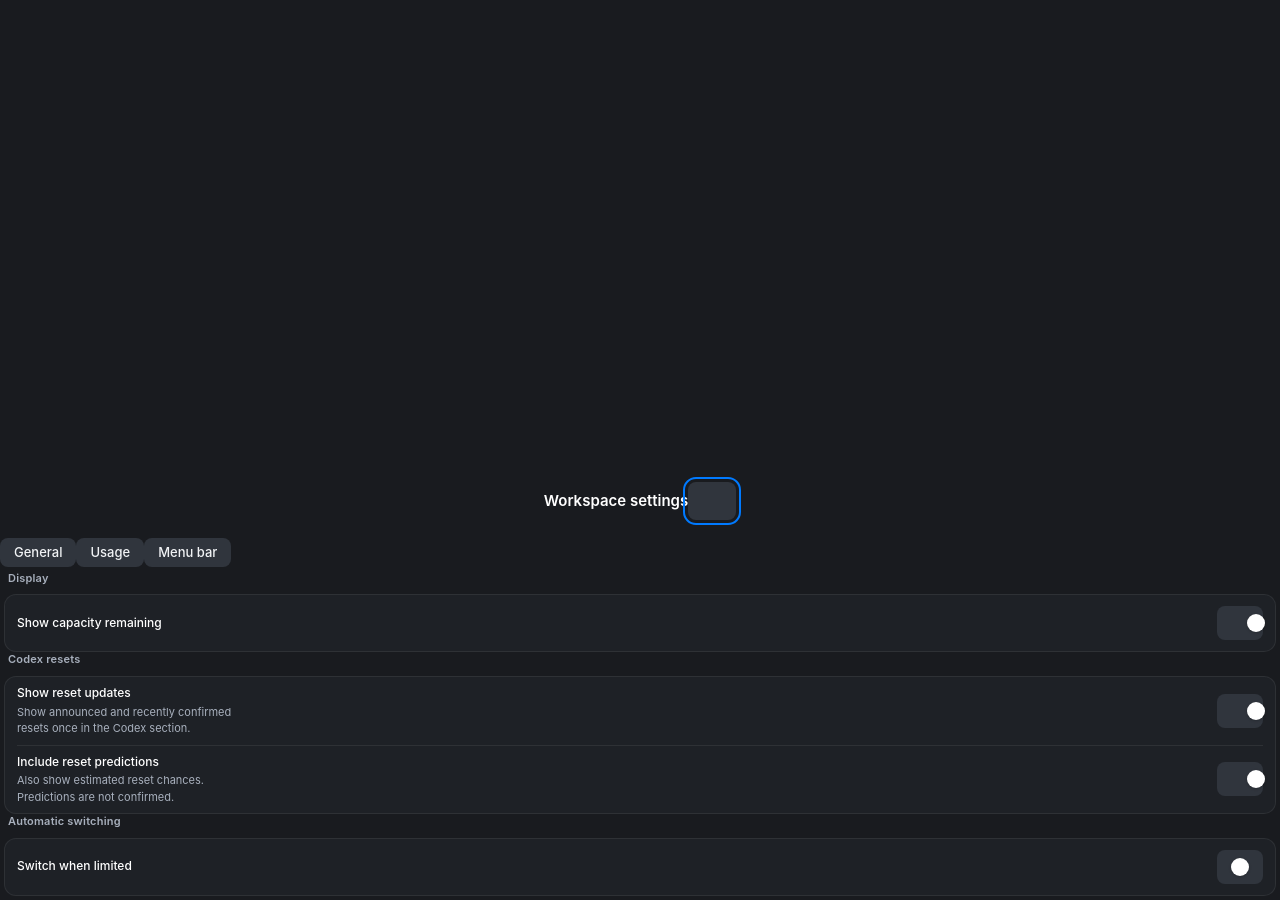
keeps usage policy separate from menu-bar presentation and explains reset predictions
(page scrolled)
Expected: the switch named "Show capacity remaining" is checked, left=1217, top=606, right=1263, bottom=640
Expected: the switch labelled "Menu bar usage" is not shown
Click the switch named "Include reset predictions" at (1240, 780), box left=1217, top=762, right=1263, bottom=796
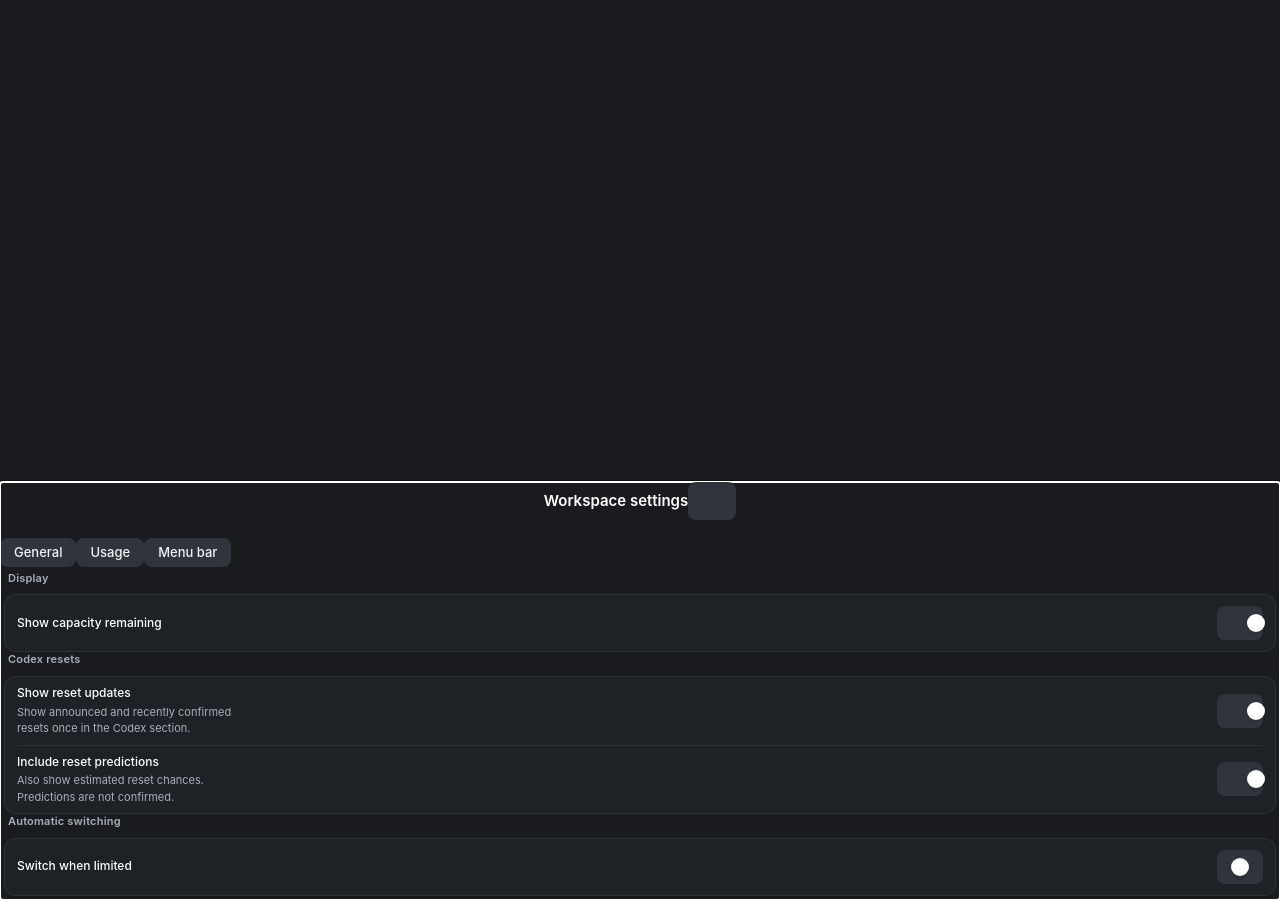
Click the tab "Menu bar" at (188, 552), box left=144, top=538, right=231, bottom=567
(page scrolled)
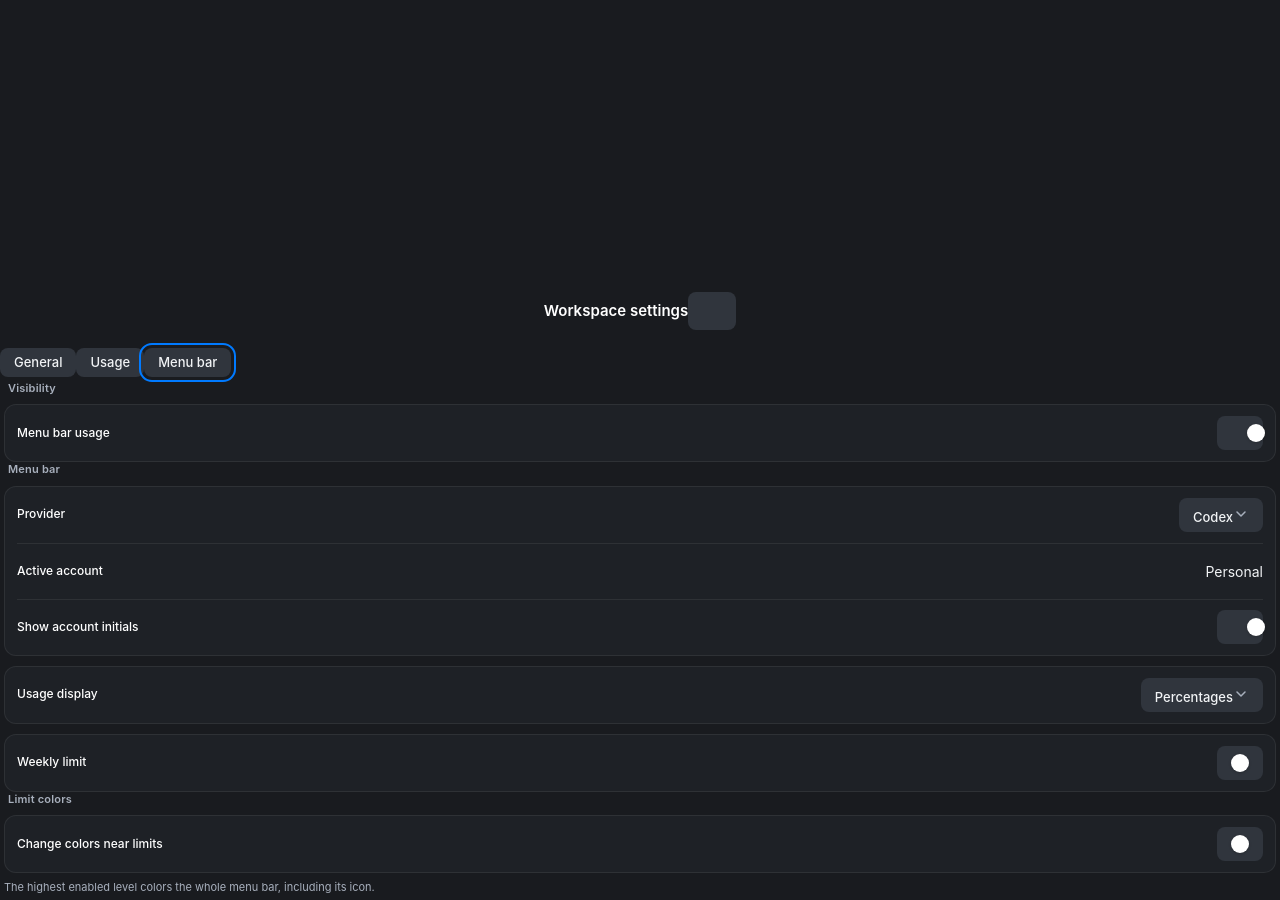
Expected: the switch named "Menu bar usage" is checked, left=1217, top=416, right=1263, bottom=450
Result: the text "Show reset updates" is gone
Result: the switch named "Change colors near limits" is shown at left=1217, top=827, right=1263, bottom=861
